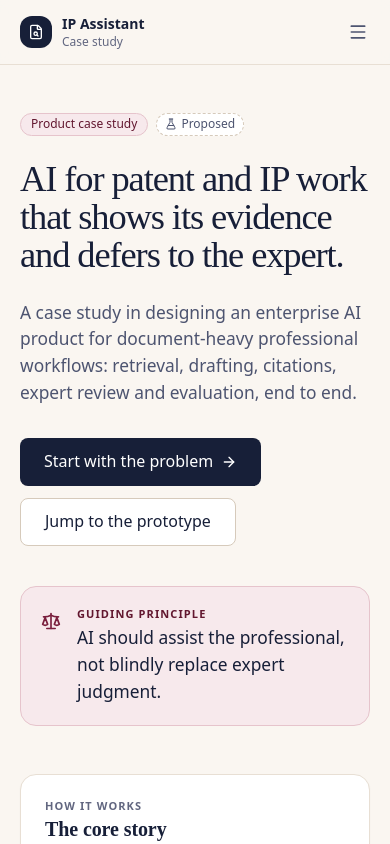
Test case: routing › toggles the mobile menu, closes it on Escape, and closes it after choosing a page
Check: the 1st heading is shown, box [20,160,370,275]
Step 1. Click the button named "Open menu" → (358, 32), box [338,12,378,52]
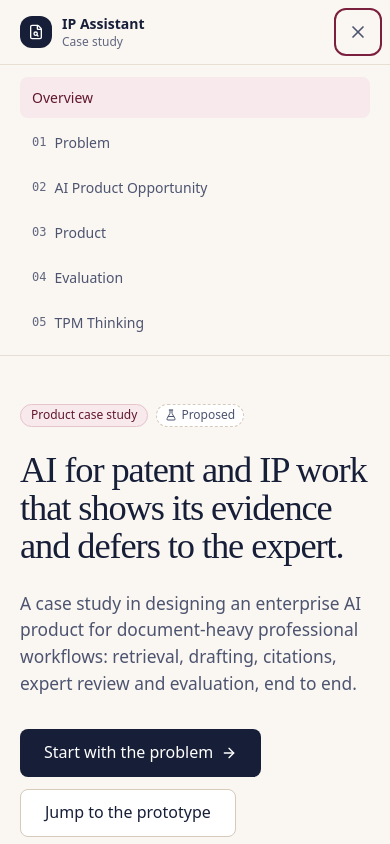
Check: the button named "Close menu" is expanded, box [338,12,378,52]
Check: the navigation bar named "mobile" is shown, box [0,64,389,355]
Step 2. Press Escape
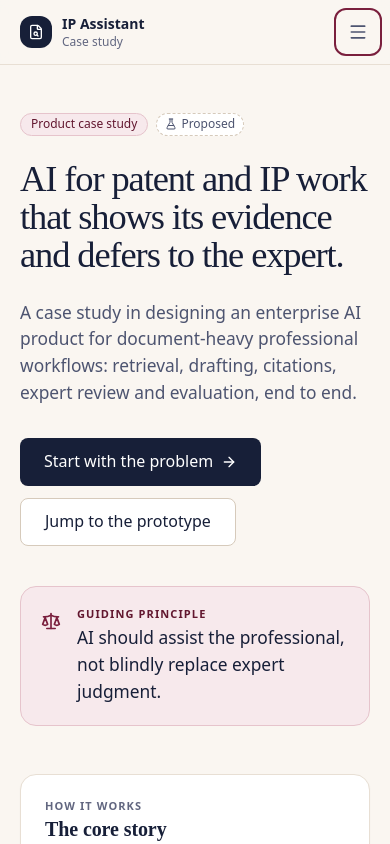
Step 3. Click the button named "Open menu" → (358, 32), box [338,12,378,52]
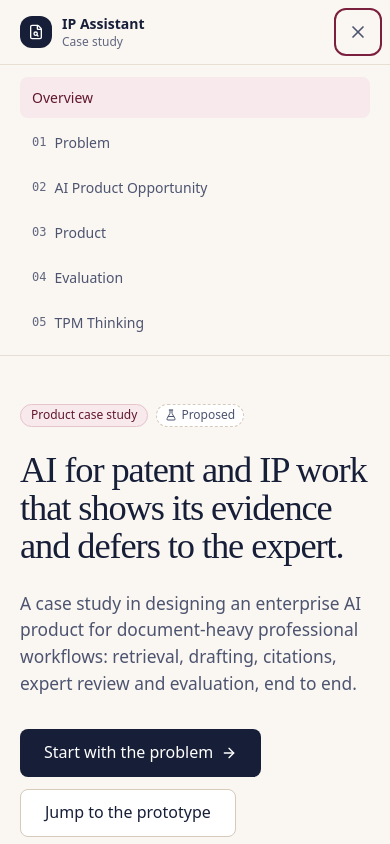
Step 4. Click the link "01 Problem" → (71, 142), box [32,133,110,152]
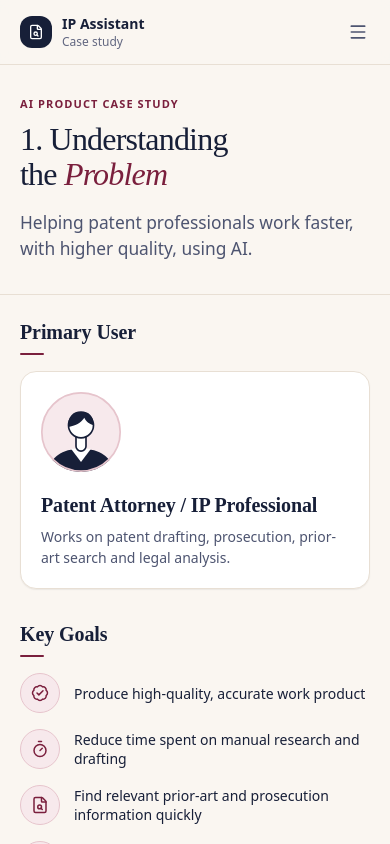
Check: the heading "1. Understanding the Problem" is shown, box [20,121,228,192]
